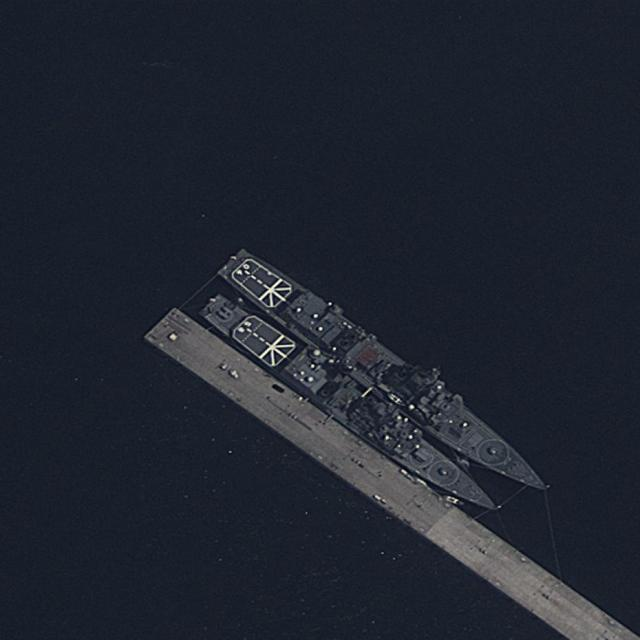Destroyer: (209, 232, 570, 510), (198, 287, 507, 522)
